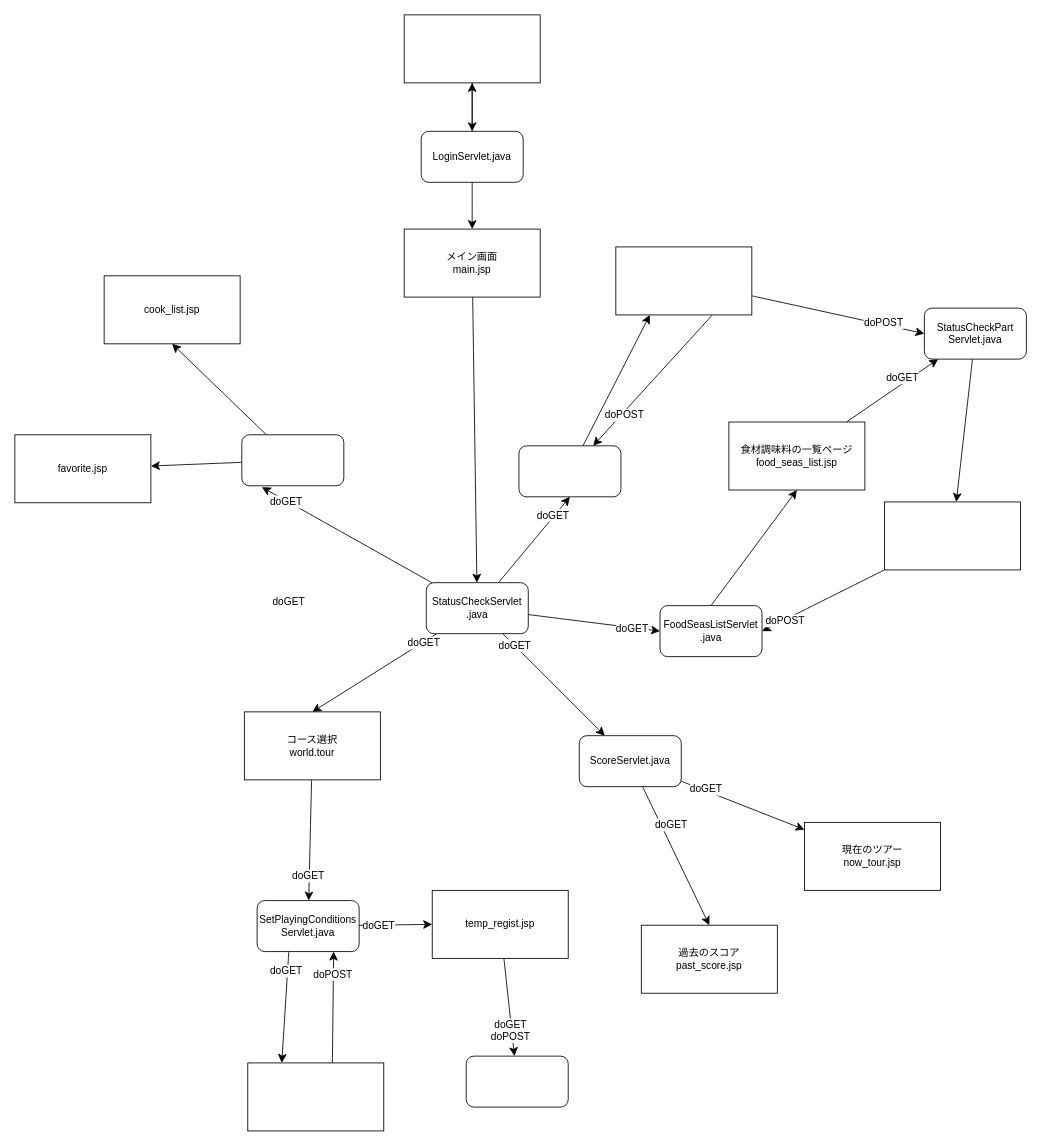
Image size: 1041x1146. Some labels were removed from this diagram. The shapes that lost their labels are listed below. From the top down, each one's centre as x and y in pixels, then its label:
At (471,48): "ログインページ login.jsp".
At (683,280): "本登録ページ main_regist.jsp".
At (292,460): "CookListServlet.java".
At (569,471): "DefinitiveRegistration Servlet.java".
At (952,535): "食材調味料の登録ページ food_seas_regist.jsp".
At (315,1096): "play.jsp".
At (516,1081): "SaveTemporary RegistrationServlet.java".
